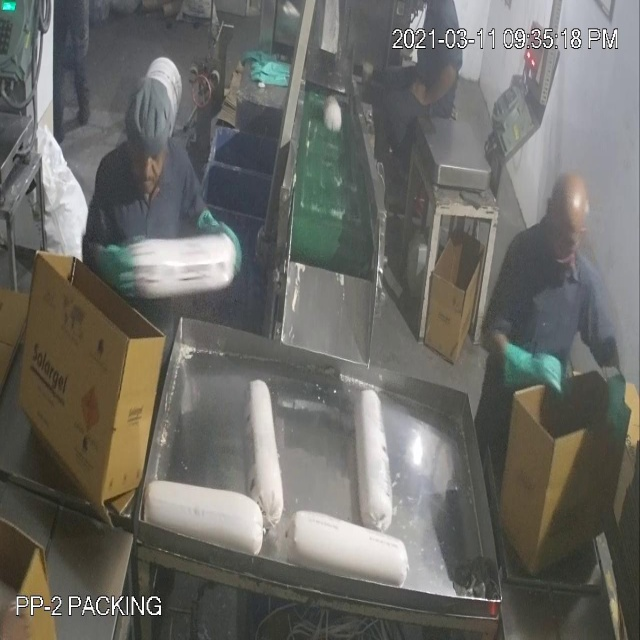Guantes: (505, 317, 573, 411), (598, 356, 639, 449)
Sin_guantes: (405, 53, 468, 117)
